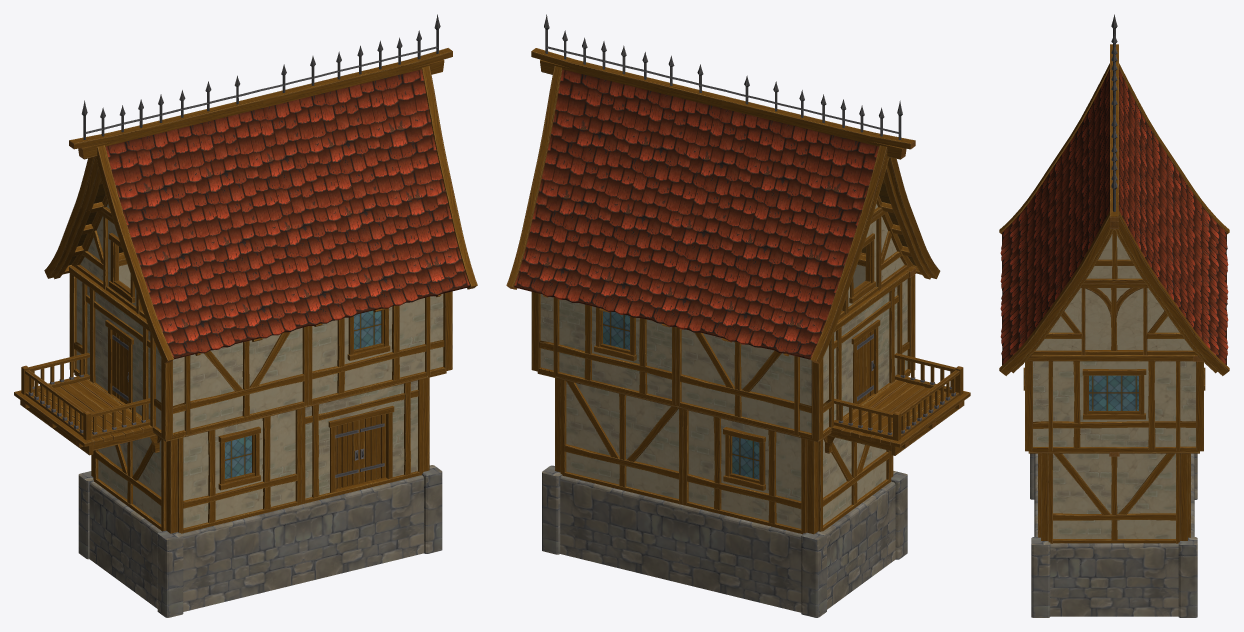
File: house_2x1_tall_02_merged_(2).gltf
3 views of the same model, side by side, from view 1: azimuth 30°, elevation 25°; view 2: azimuth 150°, elevation 25°; view 3: azimuth 270°, elevation 25° (orthographic). The views are drawn at different scales.
Parts seen in each view (by area): view 1: House_2x1_Tall_02_Merged (2); view 2: House_2x1_Tall_02_Merged (2); view 3: House_2x1_Tall_02_Merged (2).
Boxes of the visible parts, x1,y1,x2,y2 form: House_2x1_Tall_02_Merged (2): (14, 14, 477, 617); House_2x1_Tall_02_Merged (2): (506, 14, 970, 617); House_2x1_Tall_02_Merged (2): (999, 14, 1229, 617).
Bounding box in the file's own units: 16.42 × 19.32 × 8.75.
9 materials, 9 textured.
